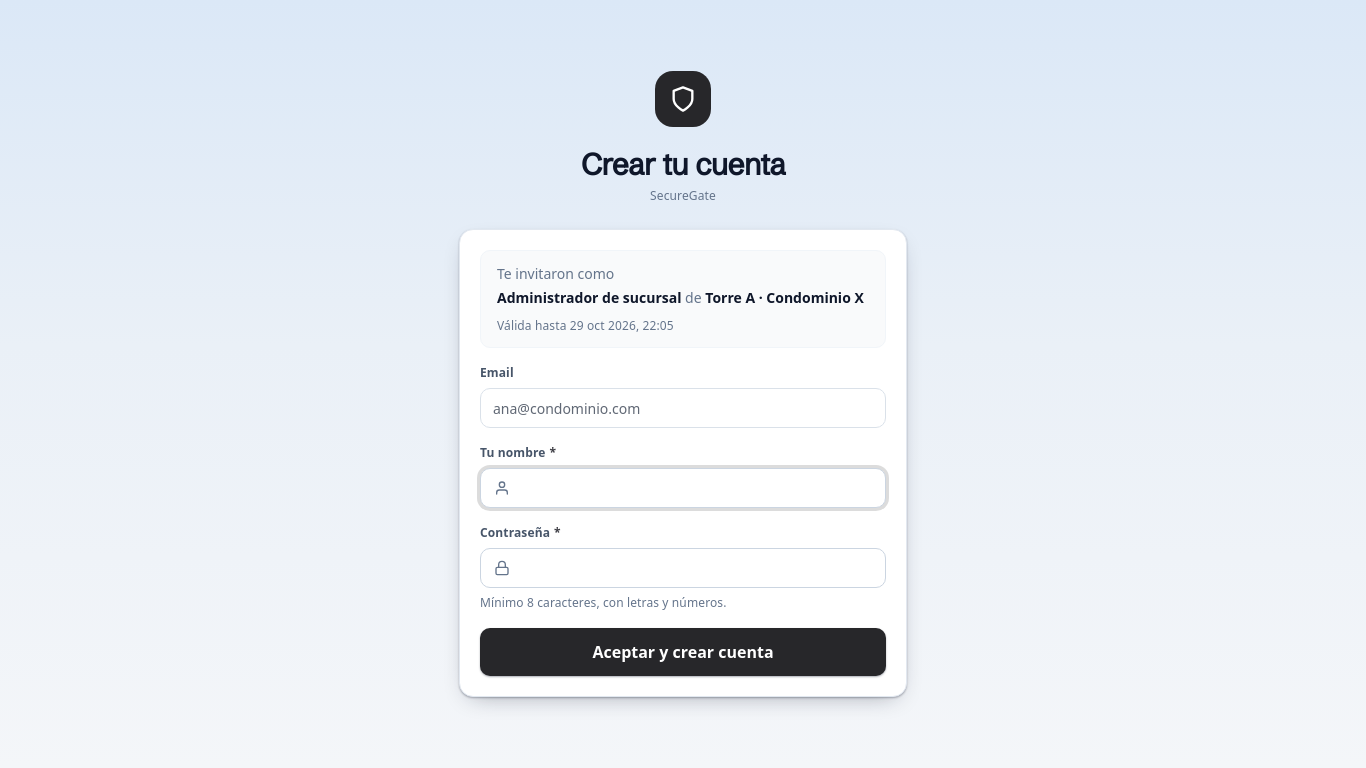
AceptarInvitacionPage › si al enviar el backend responde 410, reemplaza el formulario por el estado expirado
expect the text "Administrador de sucursal" is shown: met, box [497, 288, 682, 307]
Step 1. Type "Ana López" into the field labelled "Tu nombre*" → {"x": 683, "y": 488}, box [480, 468, 886, 508]
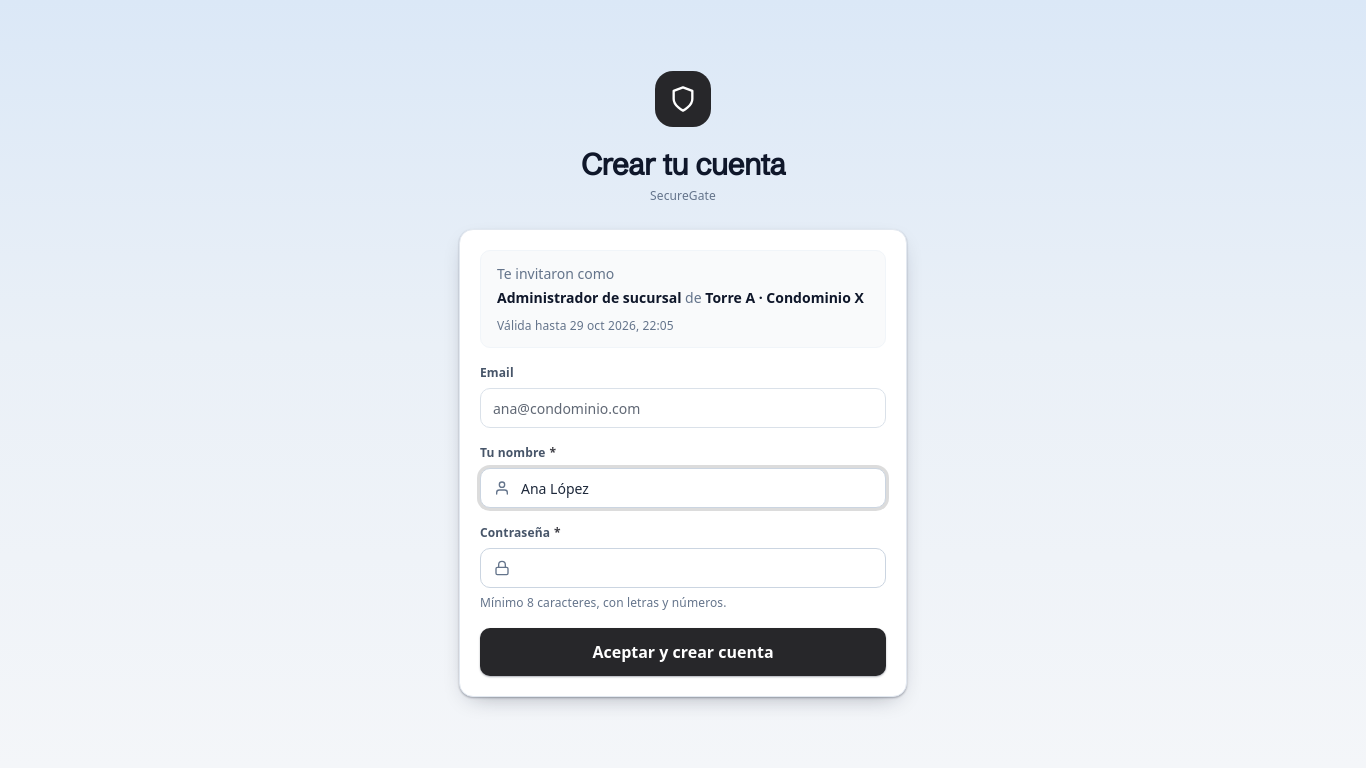
Step 2. Type "secreta123" into the password field labelled "Contraseña*" → {"x": 683, "y": 568}, box [480, 548, 886, 588]
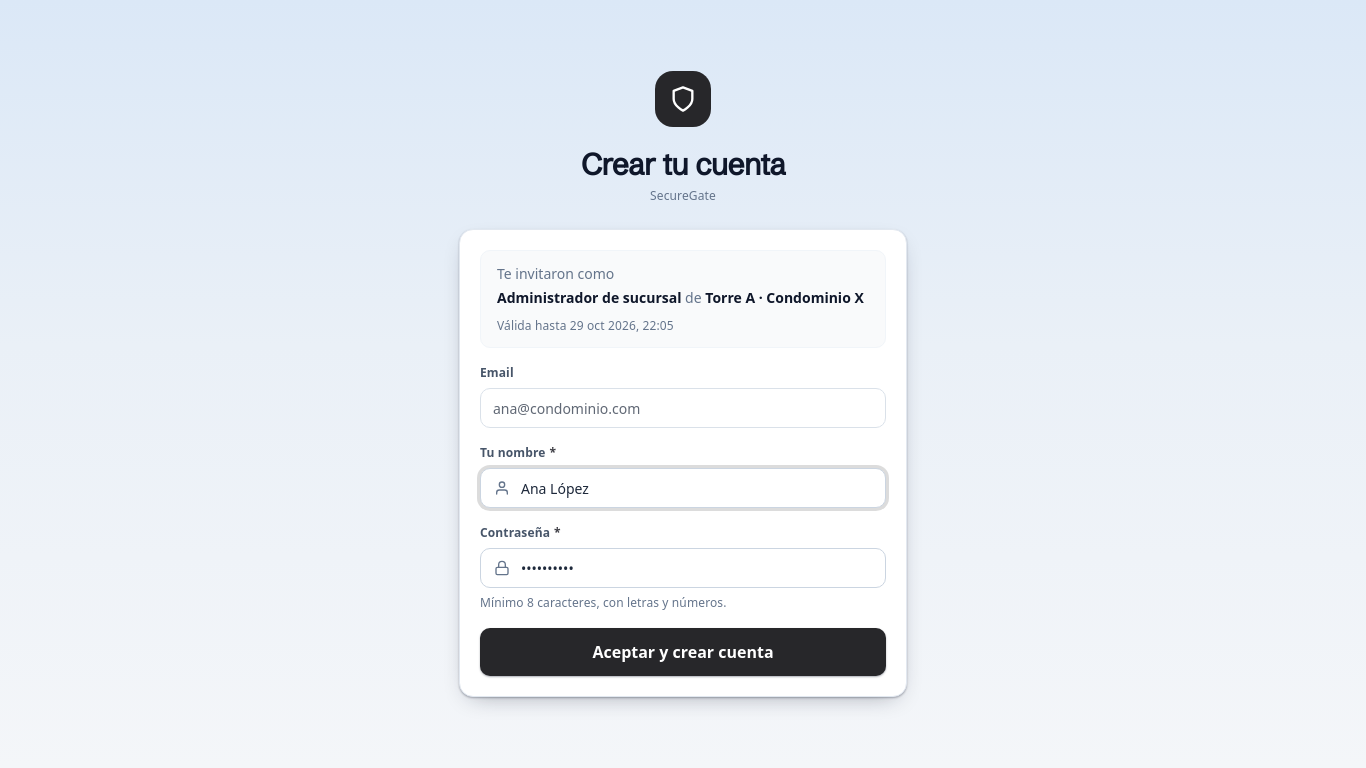
Step 3. Click the button "Aceptar y crear cuenta" → {"x": 683, "y": 652}, box [480, 628, 886, 676]
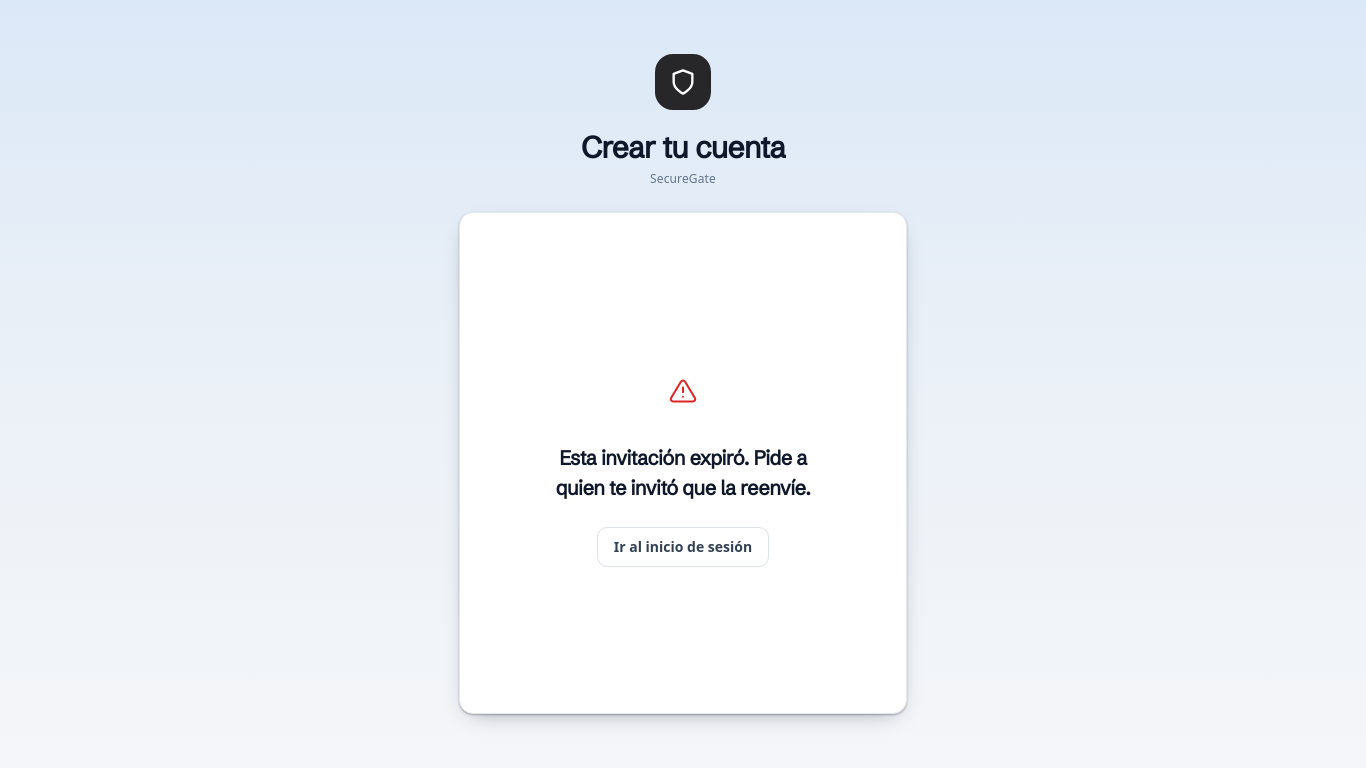
expect the heading "Esta invitación expiró" is shown: met, box [556, 445, 810, 500]
expect the label labelled "Tu nombre" is gone: met
